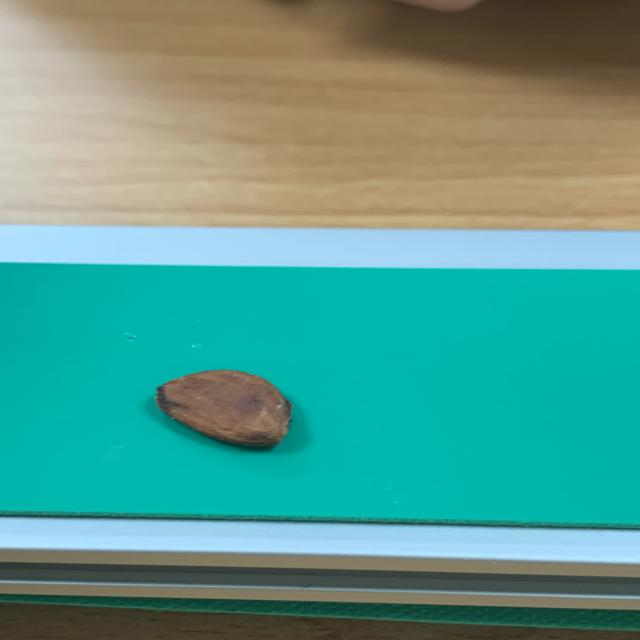Flat_cocoabeans: (76, 313, 407, 462)
